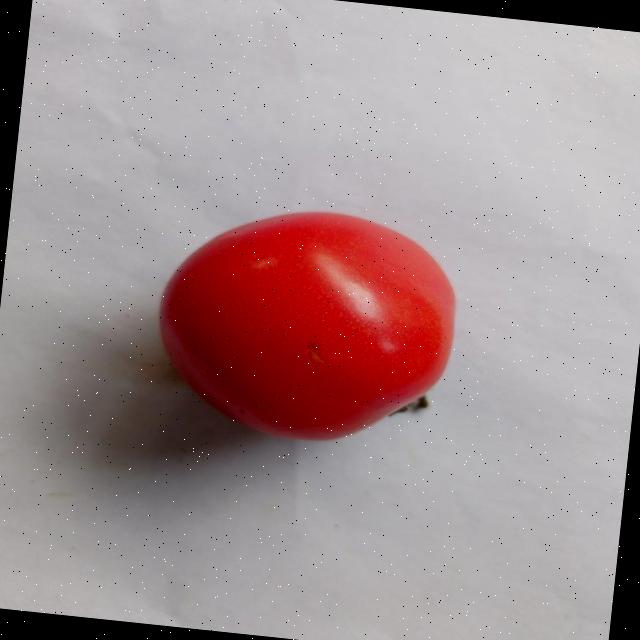Ripe: (136, 187, 474, 462)
